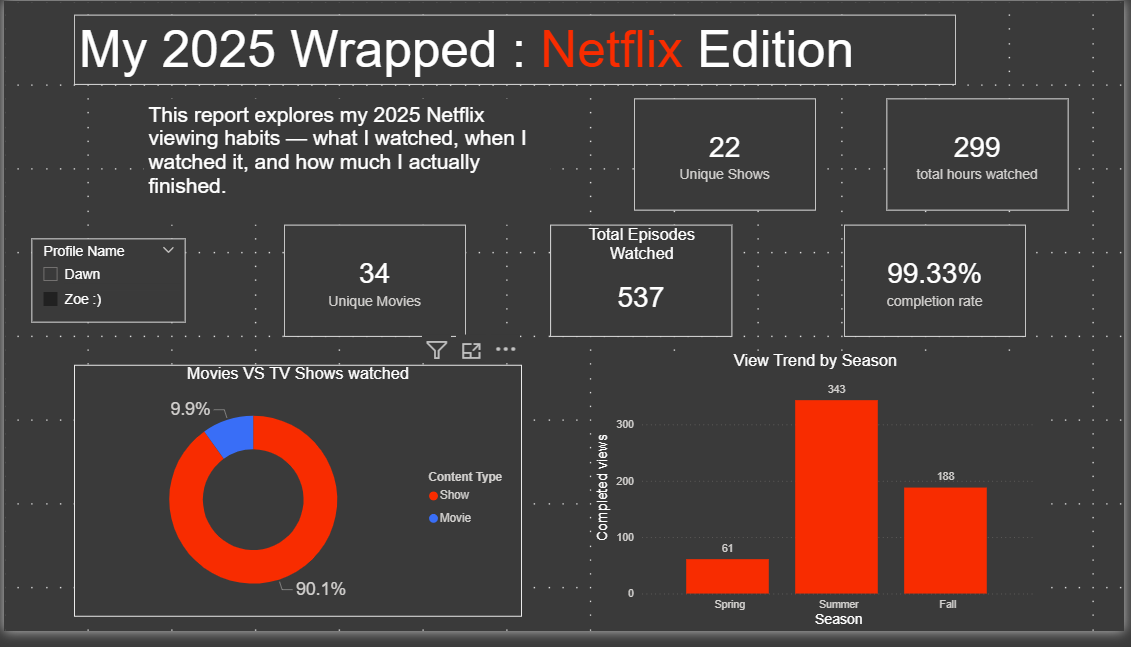

What the dashboard file says about the page in this screenshot:
{"tool":"powerbi","page":{"name":"KPI","canvas":[1280,720],"ordinal":0},"visuals":[{"type":"card","title":"Total Hours spent on Netflix","fields":{"Values":["2025ViewingActivity (2).total hours watched"]},"box":[1008,112,208,128],"z":0},{"type":"slicer","fields":{"Values":["2025ViewingActivity (2).Profile Name"]},"box":[32,272,176,96],"z":1000},{"type":"card","title":"Completion Rate","fields":{"Values":["2025ViewingActivity (2).completion rate"]},"box":[960,256,208,128],"z":2000},{"type":"card","title":"Total Episodes Watched","fields":{"Values":["CountNonNull(2025ViewingActivity (2).Content Type)"]},"box":[624,256,208,128],"z":3000},{"type":"textbox","box":[80,16,1008,80],"z":4000},{"type":"textbox","box":[160,112,464,144],"z":5000},{"type":"card","fields":{"Values":["2025ViewingActivity (2).Unique Movies"]},"box":[320,256,208,128],"z":6000},{"type":"card","fields":{"Values":["2025ViewingActivity (2).Unique Shows"]},"box":[720,112,208,128],"z":7000},{"type":"donutChart","title":"Movies VS TV Shows watched","fields":{"Category":["2025ViewingActivity (2).Content Type"],"Y":["2025ViewingActivity (2).total views"]},"box":[80,416,512,288],"z":8000},{"type":"columnChart","title":"View Trend by Season","fields":{"Category":["DateTable.Season"],"Y":["2025ViewingActivity (2).Completed views"]},"box":[672,400,512,320],"z":9000}]}

Visuals, with their boxes in screenshot pixels (x1, y1, x2, y2), scaled from the page's 1280x720 canvas onto the 1131x647 screenshot:
"Total Hours spent on Netflix" card: 891/101/1074/216
slicer - 2025ViewingActivity (2).Profile Name: 28/244/184/331
"Completion Rate" card: 848/230/1032/345
"Total Episodes Watched" card: 551/230/735/345
textbox: 71/14/961/86
textbox: 141/101/551/230
card - 2025ViewingActivity (2).Unique Movies: 283/230/467/345
card - 2025ViewingActivity (2).Unique Shows: 636/101/820/216
"Movies VS TV Shows watched" donutChart: 71/374/523/633
"View Trend by Season" columnChart: 594/359/1046/646
